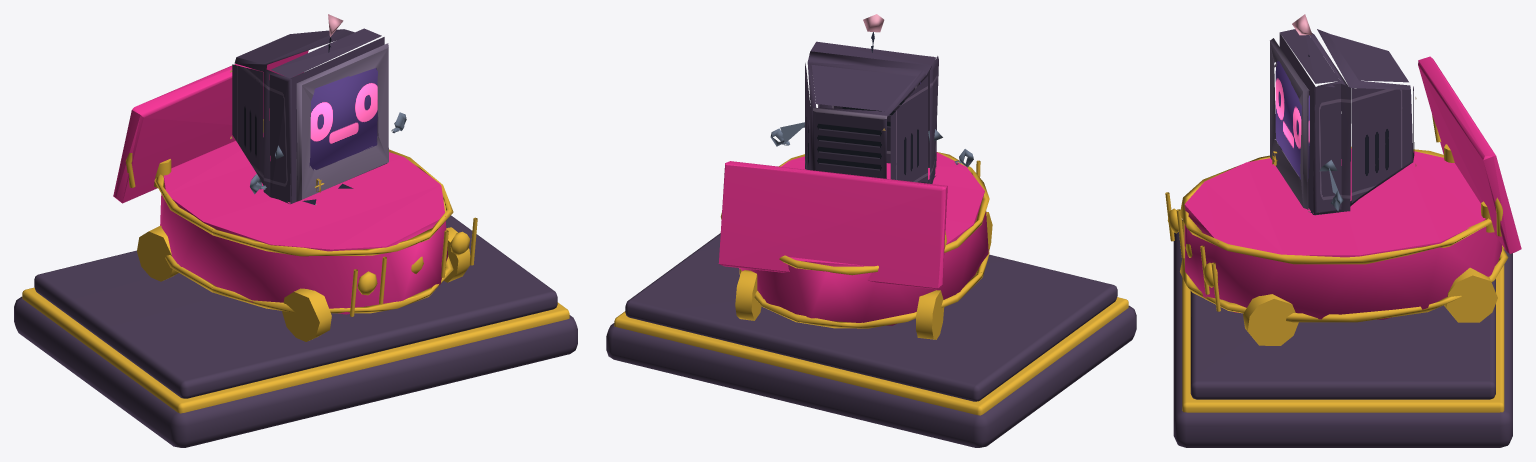
File: kart.body.candy-tin.lod1.glb
3 renders of one model, left to right at view 1: azimuth 30°, elevation 25°; view 2: azimuth 150°, elevation 25°; view 3: azimuth 270°, elevation 25°, orthographic. The views are drawn at different scales.
Parts seen in each view (by area): view 1: stand_display_top, candy_tin, emi_teacup_mesh, stand_display_base, hinged_lid, stand_brass_band, rolled_tin_rim.001, wheel.003, rolled_tin_rim, wheel.002, wheel.001; view 2: stand_display_top, hinged_lid, stand_display_base, emi_teacup_mesh, candy_tin, stand_brass_band, rolled_tin_rim, rolled_tin_rim.001, wheel.002, wheel; view 3: candy_tin, stand_display_top, emi_teacup_mesh, stand_display_base, stand_brass_band, hinged_lid, rolled_tin_rim.001, rolled_tin_rim, wheel.001, wheel.
Boxes of the visible parts, <box> form: stand_display_top: <box>34,215,557,398</box>; candy_tin: <box>160,133,447,314</box>; emi_teacup_mesh: <box>230,14,406,205</box>; stand_display_base: <box>14,296,577,447</box>; hinged_lid: <box>113,50,308,203</box>; stand_brass_band: <box>22,287,569,413</box>; rolled_tin_rim.001: <box>154,149,453,256</box>; wheel.003: <box>282,288,331,341</box>; rolled_tin_rim: <box>165,255,453,313</box>; wheel.002: <box>137,225,178,281</box>; wheel.001: <box>444,227,470,282</box>; stand_display_top: <box>625,233,1117,401</box>; hinged_lid: <box>718,161,947,289</box>; stand_display_base: <box>606,305,1136,447</box>; emi_teacup_mesh: <box>770,14,973,183</box>; candy_tin: <box>739,152,988,325</box>; stand_brass_band: <box>614,297,1128,415</box>; rolled_tin_rim: <box>739,250,989,328</box>; rolled_tin_rim.001: <box>778,152,989,275</box>; wheel.002: <box>916,290,944,339</box>; wheel: <box>735,270,761,320</box>; candy_tin: <box>1184,148,1501,319</box>; stand_display_top: <box>1190,279,1495,399</box>; emi_teacup_mesh: <box>1270,14,1416,215</box>; stand_display_base: <box>1173,220,1512,447</box>; stand_brass_band: <box>1182,219,1504,412</box>; hinged_lid: <box>1418,56,1521,253</box>; rolled_tin_rim.001: <box>1180,146,1508,264</box>; rolled_tin_rim: <box>1180,246,1508,322</box>; wheel.001: <box>1243,294,1298,345</box>; wheel: <box>1444,267,1497,322</box>.
Bounding box in the file's own units: 0.64 × 0.5131 × 0.4804.
Materials: 4 (2 with a texture image).
